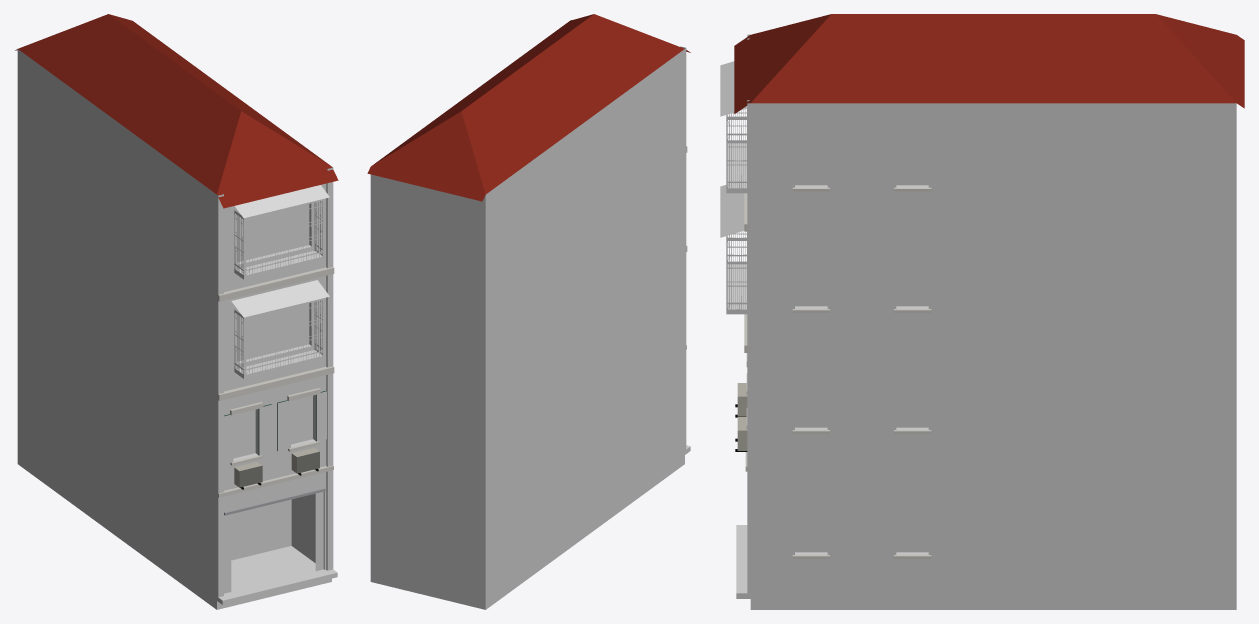
The picture shows the model from 3 angles, left to right: view 1: azimuth 30°, elevation 25°; view 2: azimuth 150°, elevation 25°; view 3: azimuth 270°, elevation 25°; orthographic projection. The views are drawn at different scales.
Visible parts, largest first — view 1: TH_D12_R_19_LOD0; view 2: TH_D12_R_19_LOD0; view 3: TH_D12_R_19_LOD0.
Part boxes in pixels (<box>): TH_D12_R_19_LOD0: <box>15,14,338,609</box>; TH_D12_R_19_LOD0: <box>367,14,690,609</box>; TH_D12_R_19_LOD0: <box>720,14,1244,609</box>.
Size of what is drawn, in the model's own units: 4.08 by 15.3 by 12.95.
